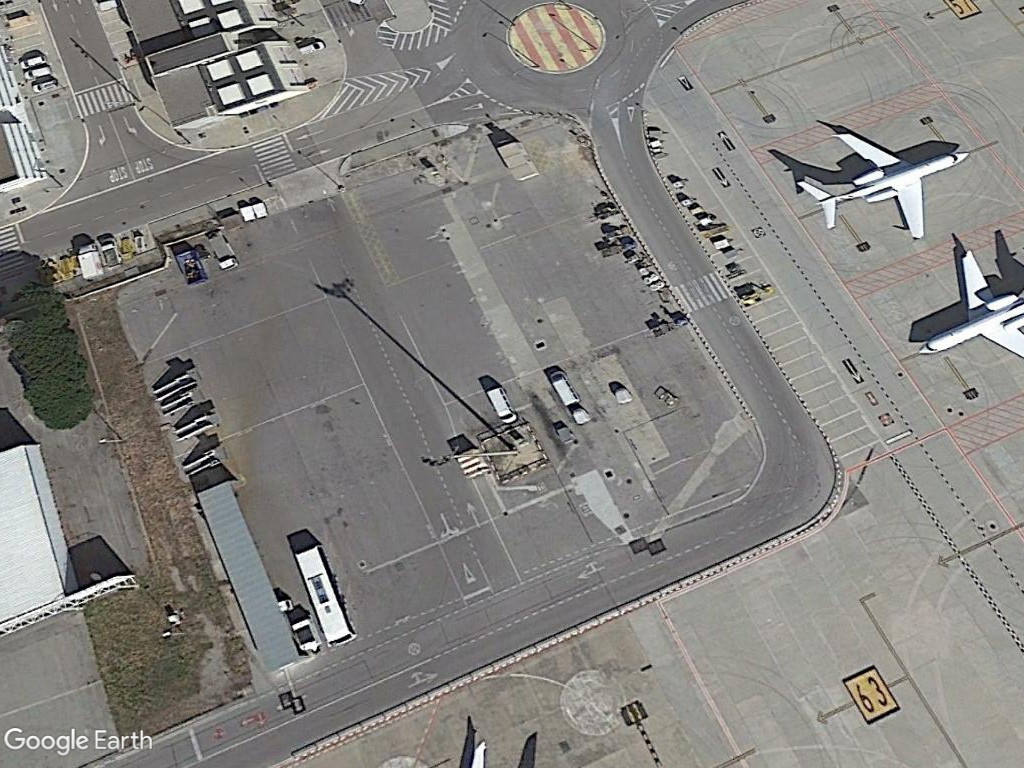bus: (287, 535, 380, 652)
chartered: (791, 127, 976, 246)
stairtruck: (166, 412, 228, 442)
van: (479, 378, 522, 426)
